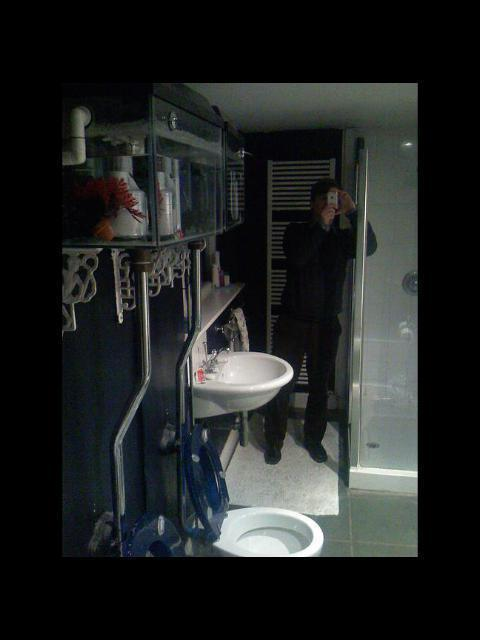Ducha: (349, 140, 417, 495)
Lavamanos: (140, 323, 284, 421)
Sanitario: (170, 489, 318, 556)
